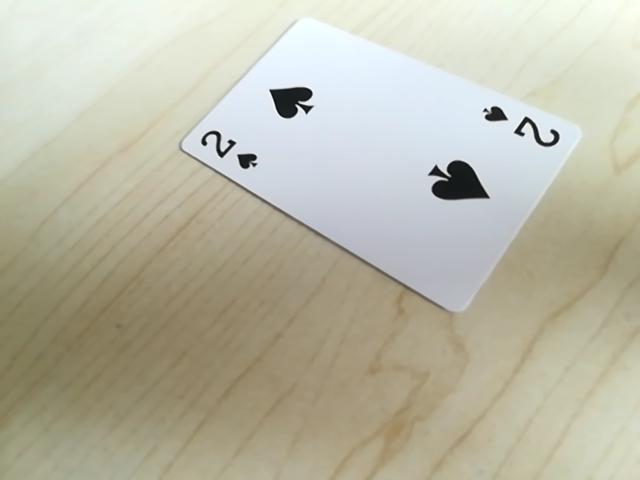ht 2: (474, 100, 567, 154), (191, 123, 261, 175)
